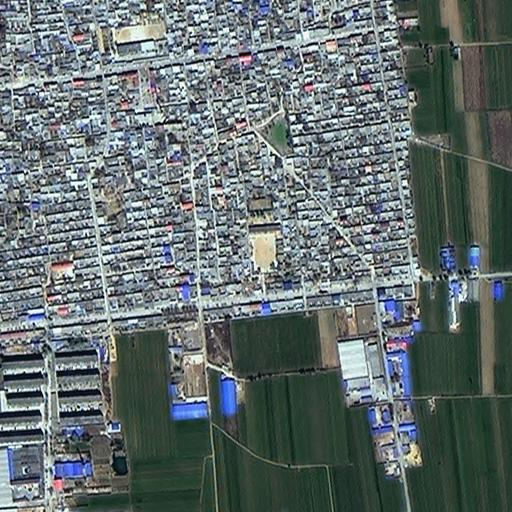school: (248, 197, 282, 273)
